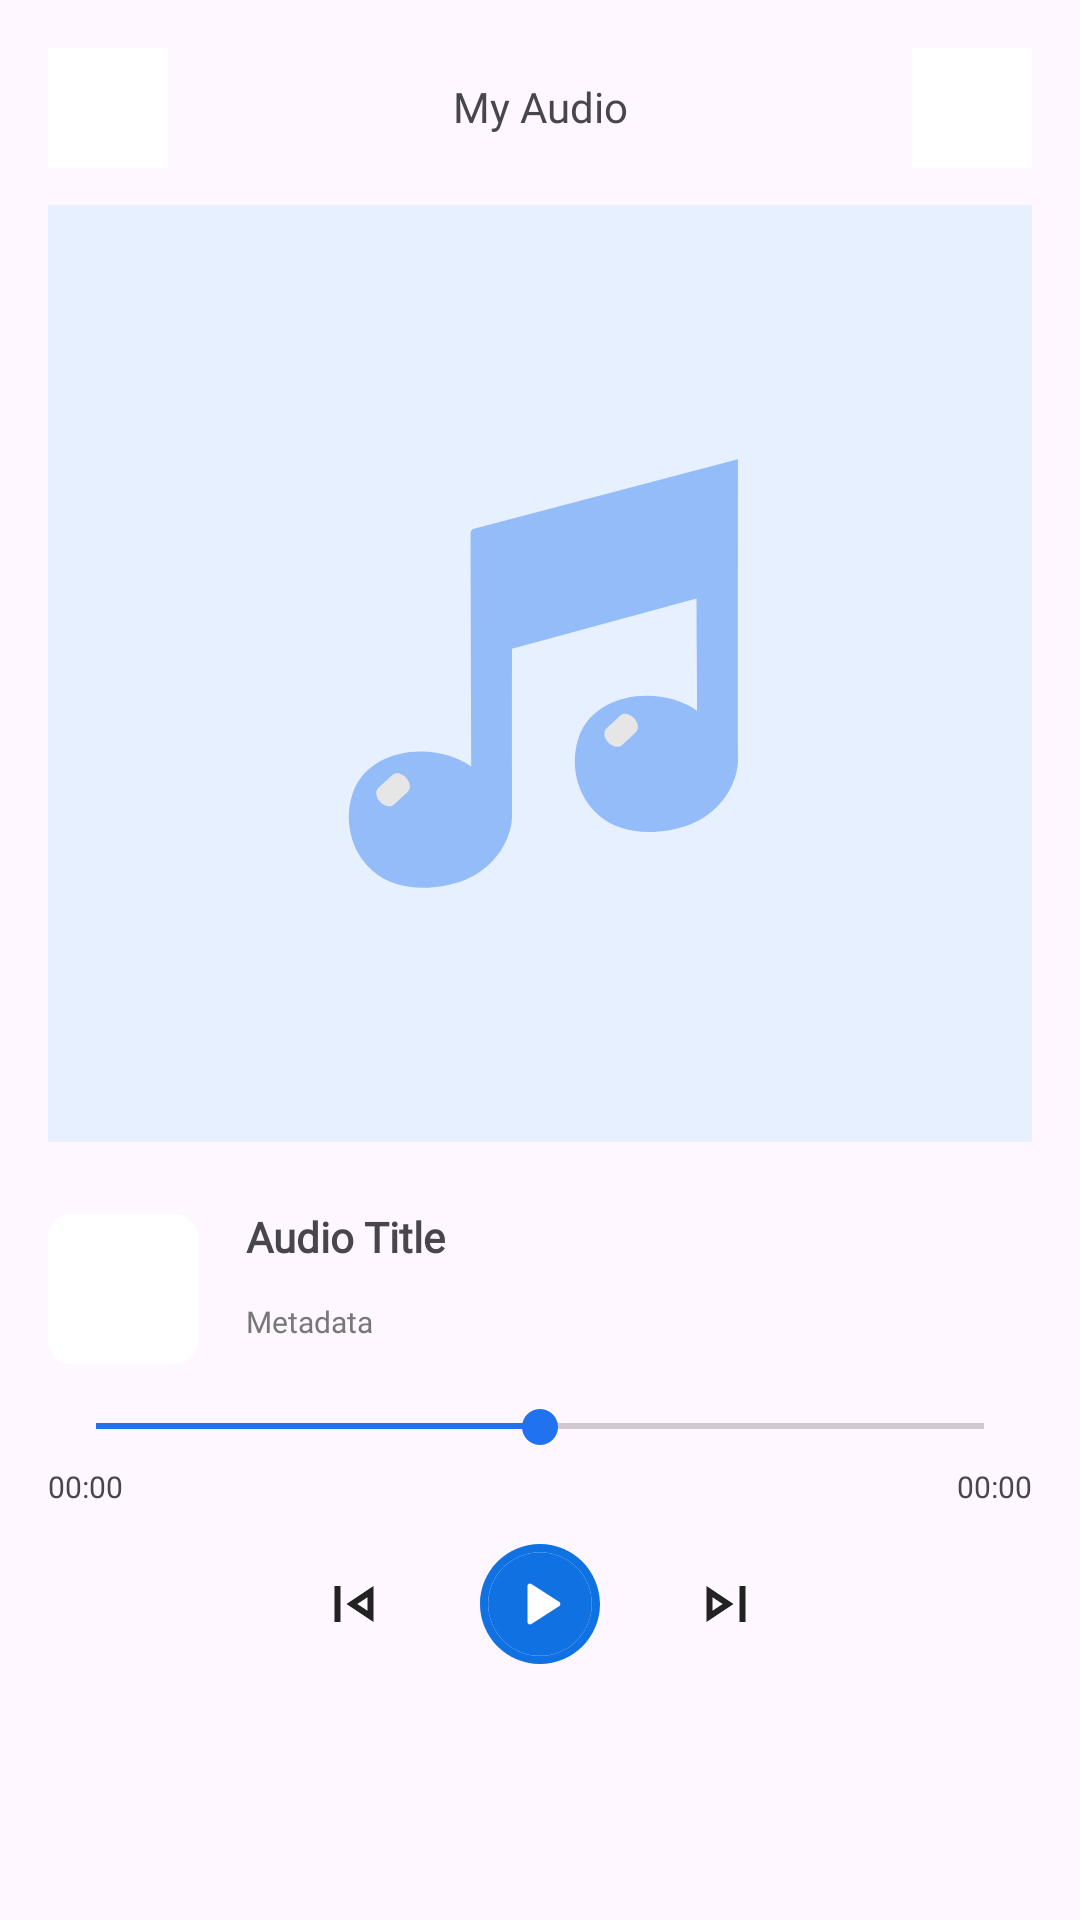

Named icons in this screenshot (1080x1920) and their centers, (x,y):
play: (540,1604)
skip next: (726,1604)
skip previous: (354,1604)
